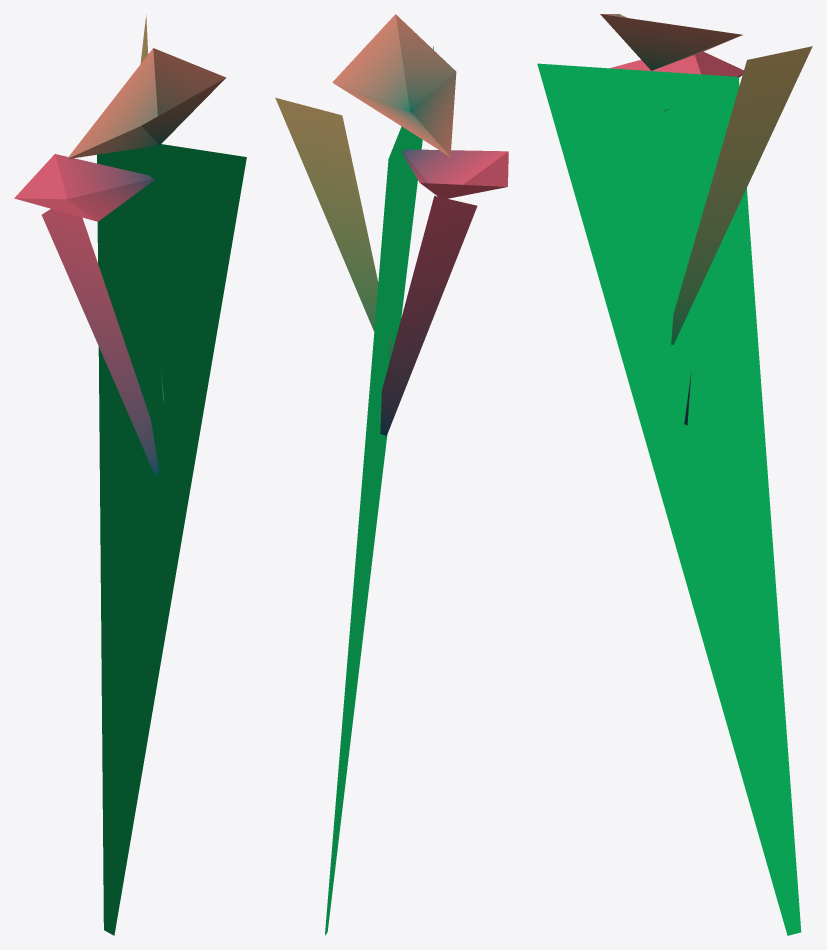
Rendered from Nordic_Coastal_Groundcover_vlqkdeaja_Mid_vlqkdeaja_VarG_LOD2.fbx.
The picture shows the model from 3 angles, left to right: view 1: azimuth 30°, elevation 25°; view 2: azimuth 150°, elevation 25°; view 3: azimuth 270°, elevation 25°; orthographic projection. The views are drawn at different scales.
Visible parts, largest first — view 1: _z6pc_VarG_LOD4; view 2: _z6pc_VarG_LOD4; view 3: _z6pc_VarG_LOD4.
Boxes of the visible parts, x1,y1,x2,y2 form: _z6pc_VarG_LOD4: (14, 15, 246, 935); _z6pc_VarG_LOD4: (275, 14, 508, 935); _z6pc_VarG_LOD4: (537, 14, 812, 935).
Size of the model in its own units: 7.99 by 36.64 by 9.83.
